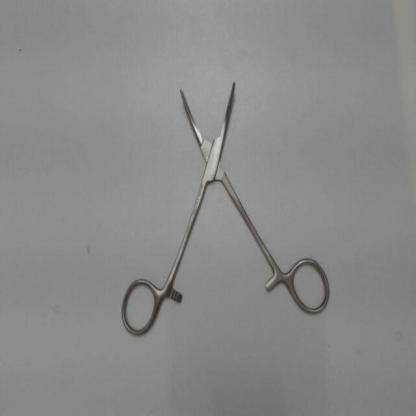Crile Artery Forceps: (115, 70, 335, 345)
